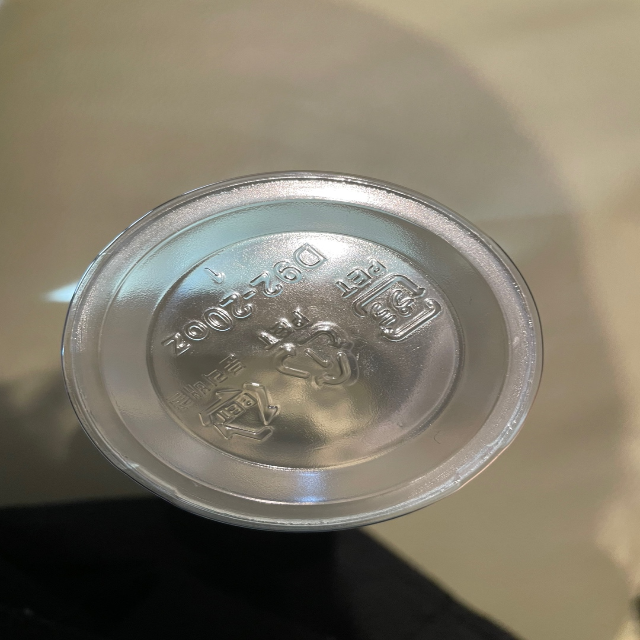pet: (163, 353, 277, 447), (332, 253, 442, 347), (258, 307, 358, 392)
